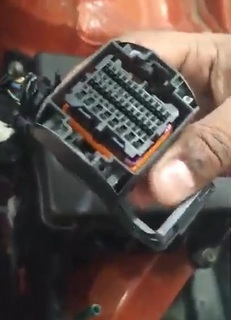connector: (30, 39, 199, 202)
